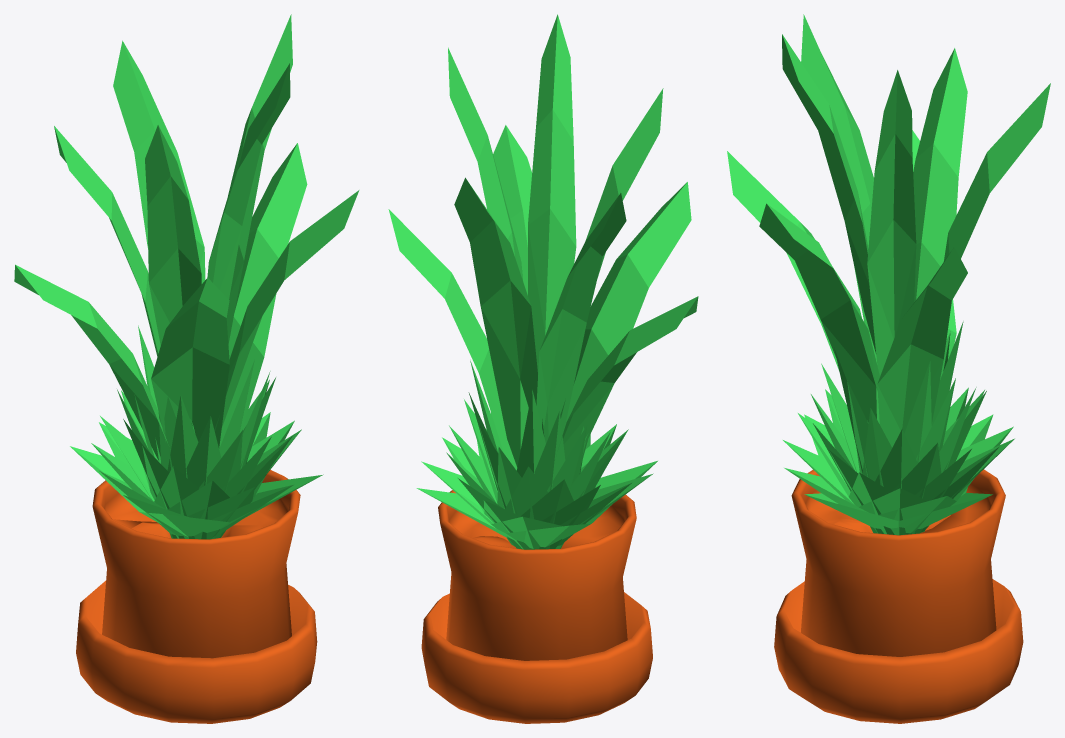
The model's file is plant2.glb.
3 renders of one model, left to right at view 1: azimuth 30°, elevation 25°; view 2: azimuth 150°, elevation 25°; view 3: azimuth 270°, elevation 25°, orthographic. The views are drawn at different scales.
Visible parts, largest first — view 1: Low-Poly Plant_.002, Low-Poly Plant_.003; view 2: Low-Poly Plant_.002, Low-Poly Plant_.003; view 3: Low-Poly Plant_.002, Low-Poly Plant_.003.
Boxes of the visible parts, x1,y1,x2,y2 form: Low-Poly Plant_.002: (14,14,359,539); Low-Poly Plant_.003: (76,470,317,723); Low-Poly Plant_.002: (388,14,698,549); Low-Poly Plant_.003: (421,490,652,723); Low-Poly Plant_.002: (727,14,1050,535); Low-Poly Plant_.003: (774,469,1023,723).
Bounding box in the file's own units: 0.6533 × 1.35 × 0.5929.
